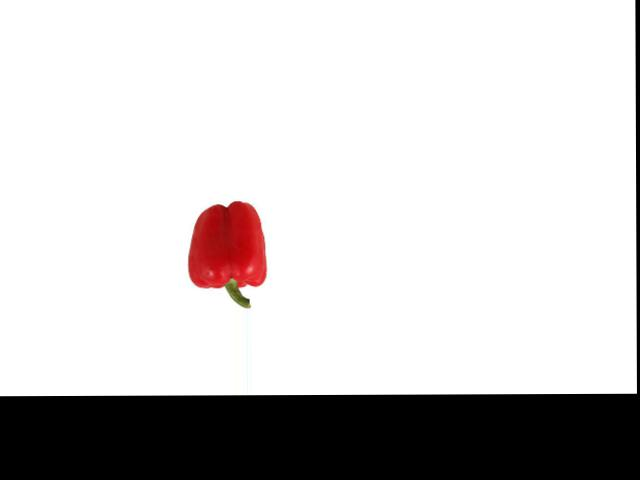bell_pepper: (176, 200, 270, 307)
